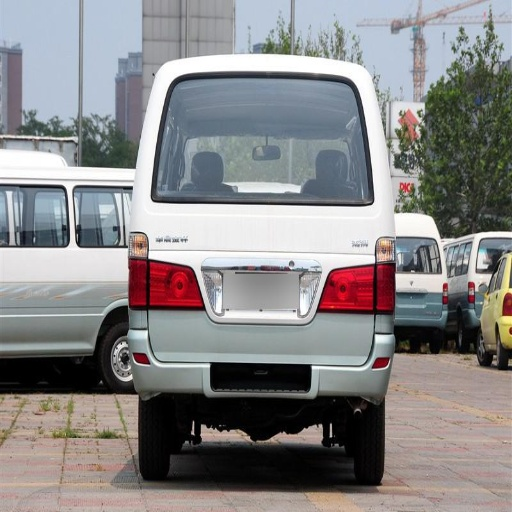back_bumper: (115, 309, 394, 401), (4, 312, 100, 355)
tailgate: (204, 264, 322, 323)
trunk: (153, 206, 382, 353), (2, 274, 117, 336)
